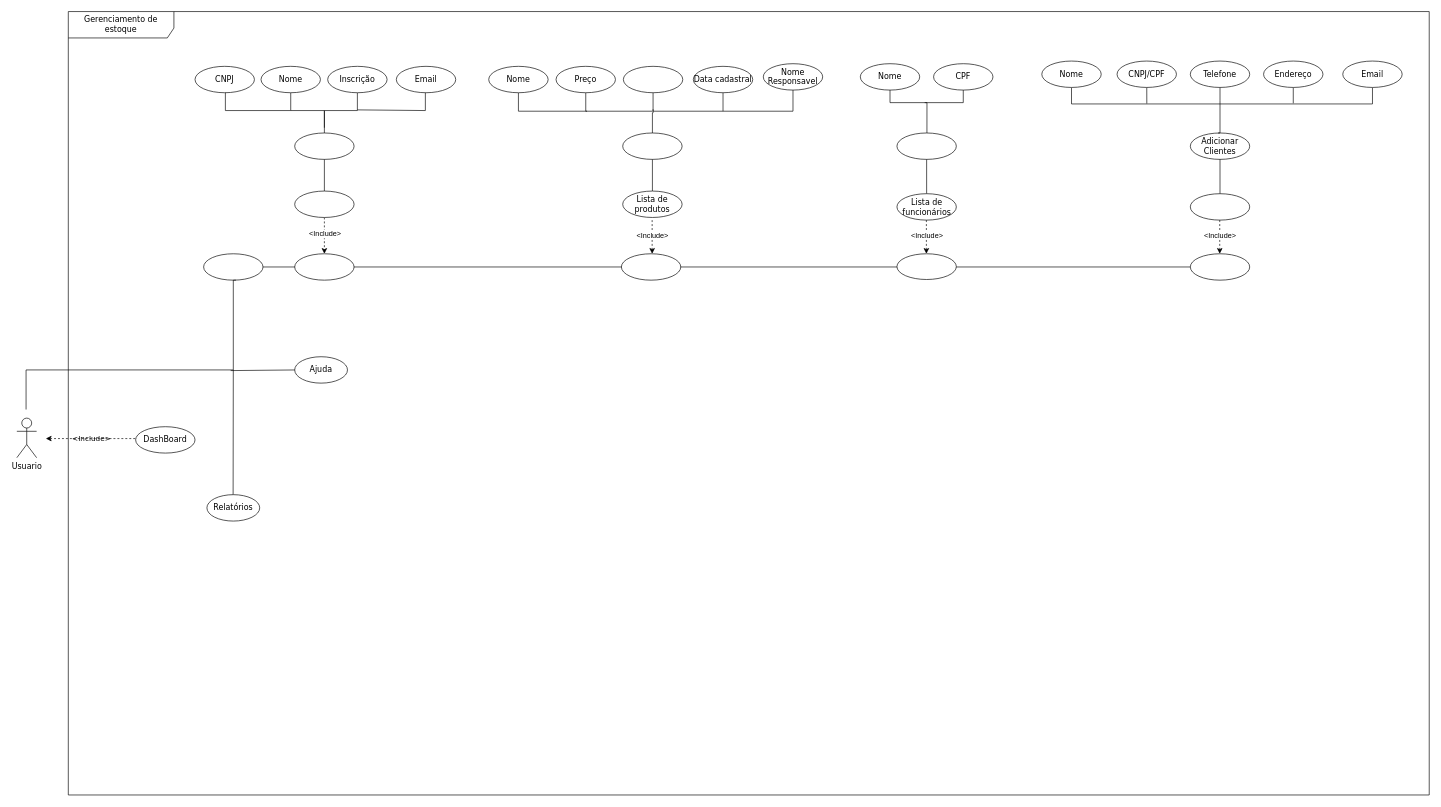
This 1441x807 diagram has some shape labels left out. The box of each missing label's shape, as (x1, y1, x2, y2) in pixels:
Adicionar Empresa: (294, 132, 354, 159)
Adicionar Funcionário: (896, 132, 956, 159)
Adicionar Produtos: (622, 132, 682, 159)
Cadastros: (203, 253, 263, 280)
Clientes: (1190, 253, 1250, 280)
Empresa: (294, 253, 354, 280)
Funcionários: (896, 253, 956, 280)
Lista de clientes: (1190, 193, 1250, 220)
Lista de empresas: (294, 190, 354, 217)
Produtos: (621, 253, 681, 280)
Quantidade: (623, 66, 683, 93)
